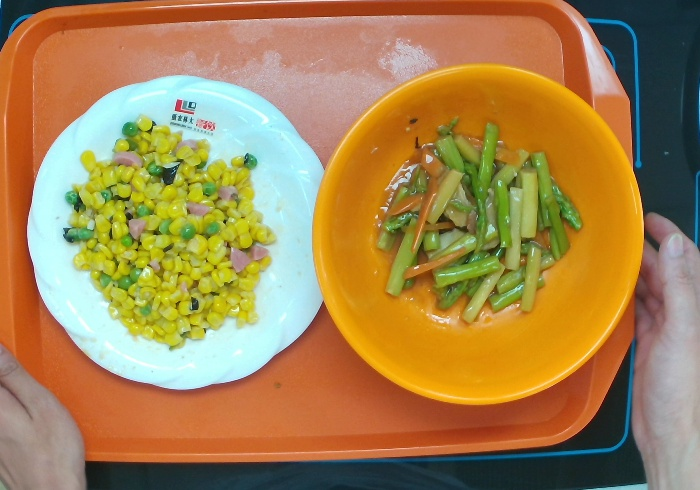ZNLD-Hua_Bian_Wan: (24, 71, 323, 391)
ZNLD-Ju_Se_Tang_Wan: (310, 58, 647, 406)
